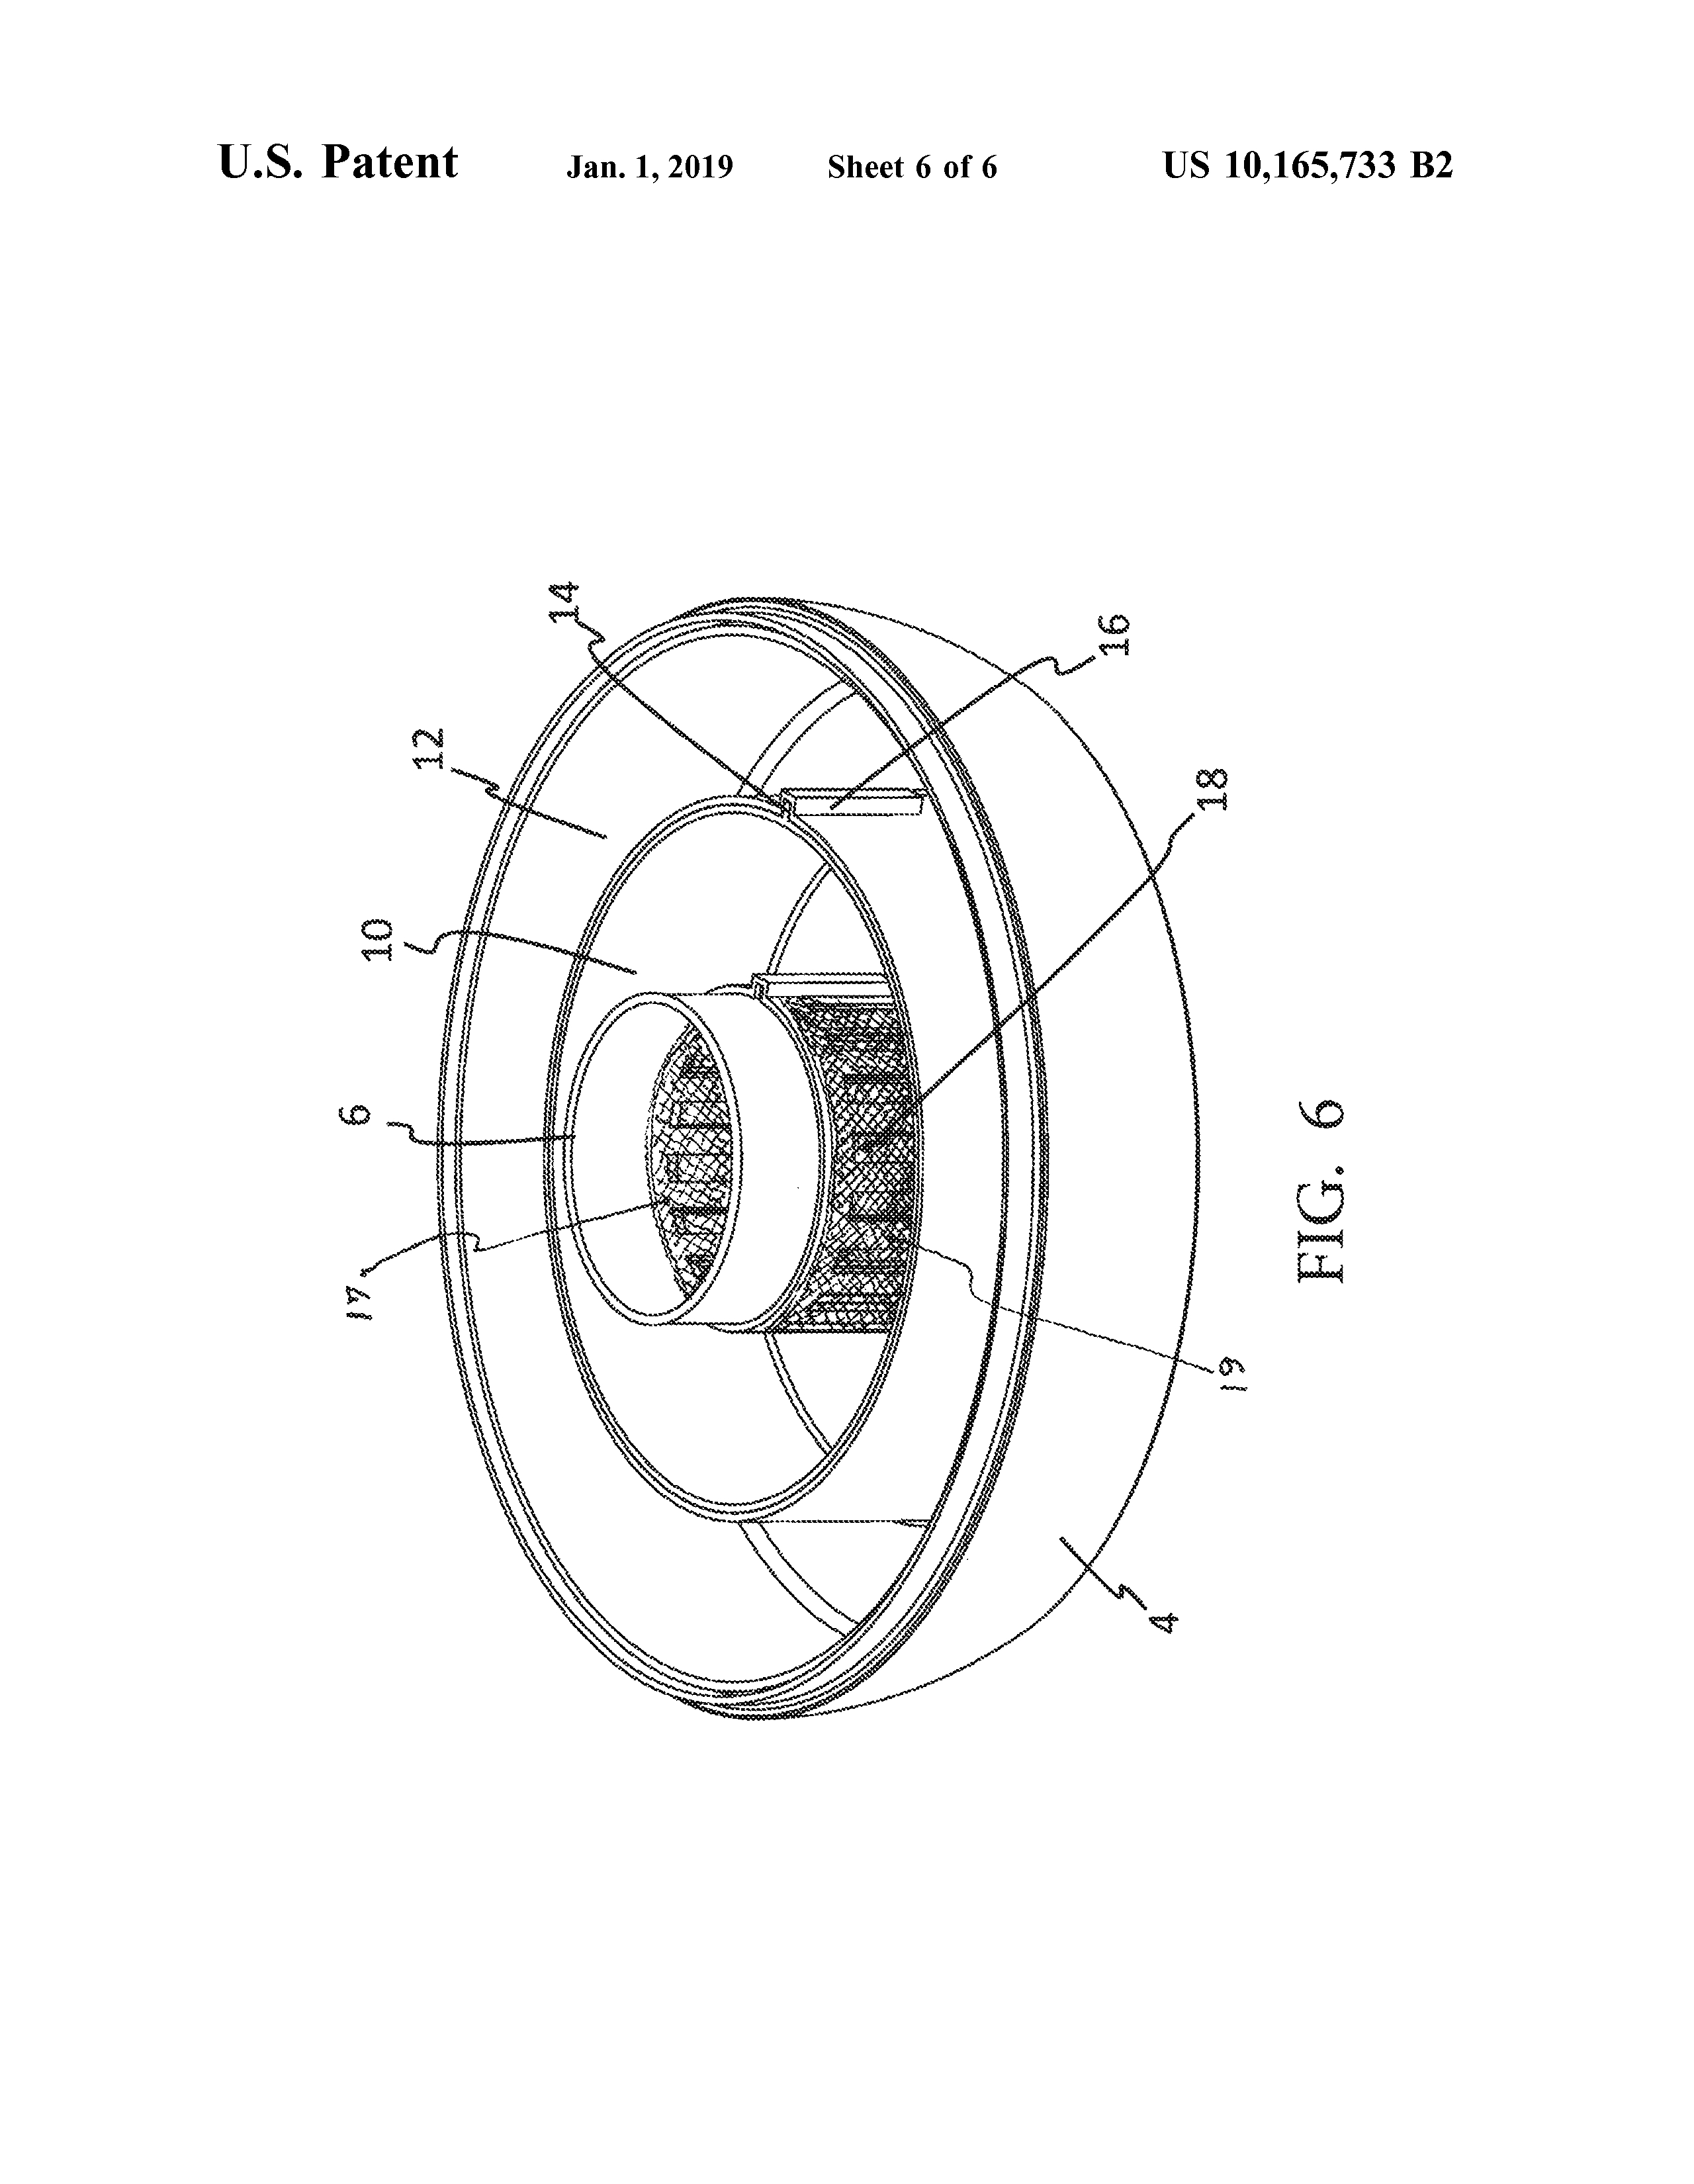patent image: (313, 535, 1395, 1772)
